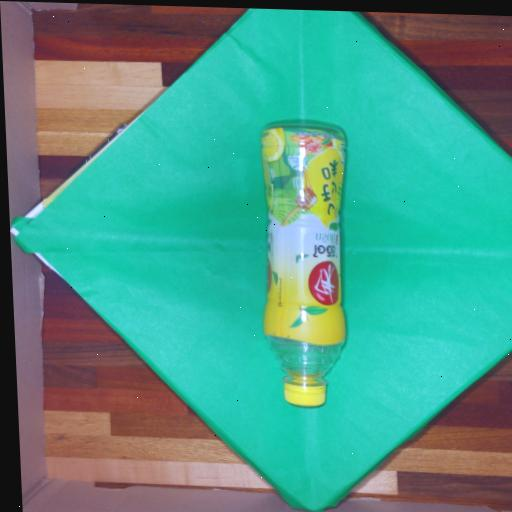bottle: (262, 124, 345, 406)
